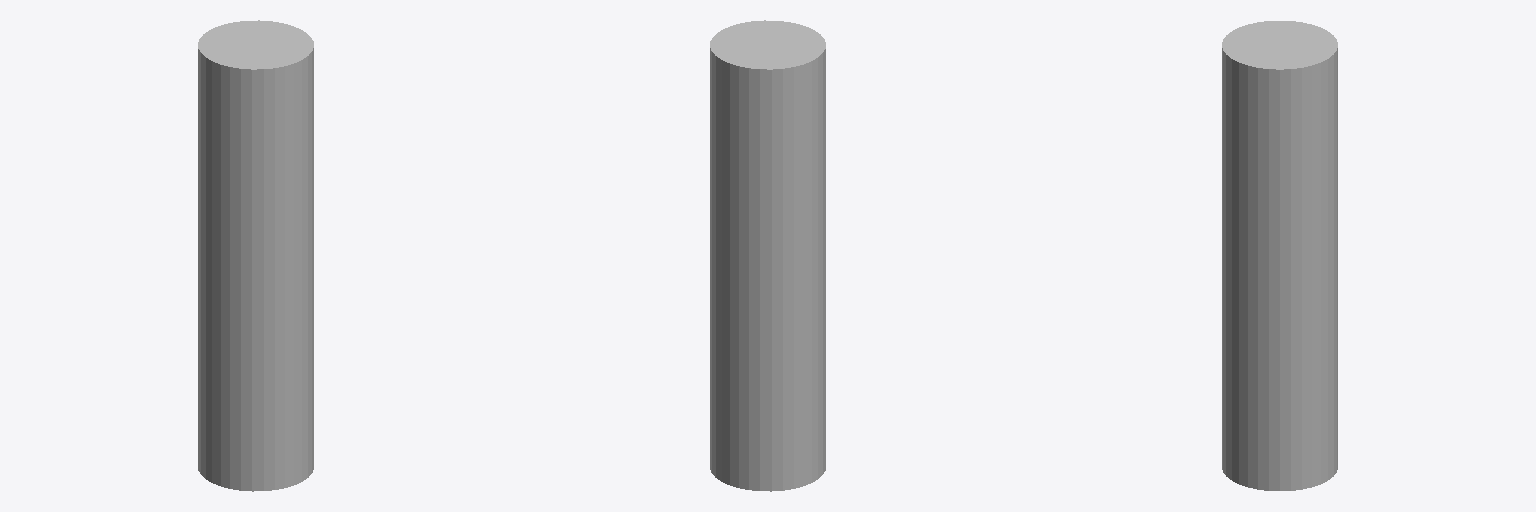
The robot description file, URDF, robot "cylinder_agent":
<?xml version="1.0"?>
<robot name="cylinder_agent">
  <link name="base_link">
    <visual>
      <geometry>
        <cylinder radius="0.025" length="0.2"/>
      </geometry>
      <material name="silver">
        <color rgba="0.8 0.8 0.8 1.0"/>
      </material>
    </visual>
    <collision>
      <geometry>
        <cylinder radius="0.025" length="0.2"/>
      </geometry>
    </collision>
    <inertial>
      <mass value="1.0"/>
      <inertia ixx="0.0001" ixy="0.0" ixz="0.0" iyy="0.0001" iyz="0.0" izz="0.0001"/>
    </inertial>
  </link>
</robot>

--- Facts derived from the render (not from the file) ---
Views: 3 orthographic renders of the robot side by side, from view 1: azimuth 30°, elevation 25°; view 2: azimuth 150°, elevation 25°; view 3: azimuth 270°, elevation 25°.
Robot: cylinder_agent — 1 links, 0 joints (none); root link base_link; default pose: every joint at zero.
Links seen in each view (by area): view 1: base_link; view 2: base_link; view 3: base_link.
Link boxes in pixels (x1=…): base_link: x1=198, y1=20, x2=313, y2=491; base_link: x1=710, y1=20, x2=825, y2=491; base_link: x1=1222, y1=21, x2=1337, y2=490.
Size in the robot's own frame: 0.05 by 0.05 by 0.2 metres.
Geometry: primitives only (box / cylinder / sphere), no mesh files.
